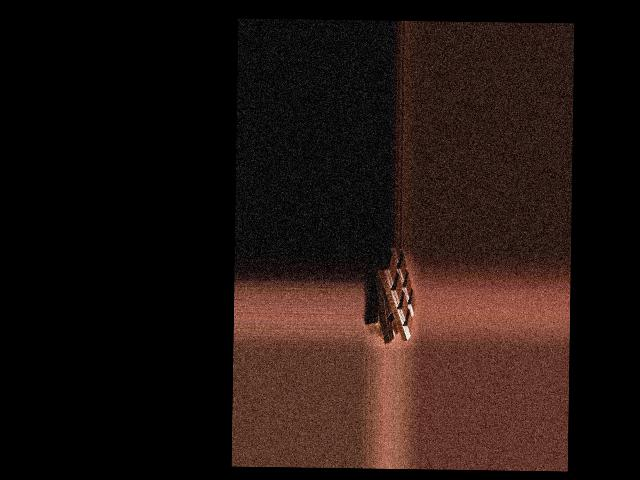chocolate: (371, 249, 415, 343)
